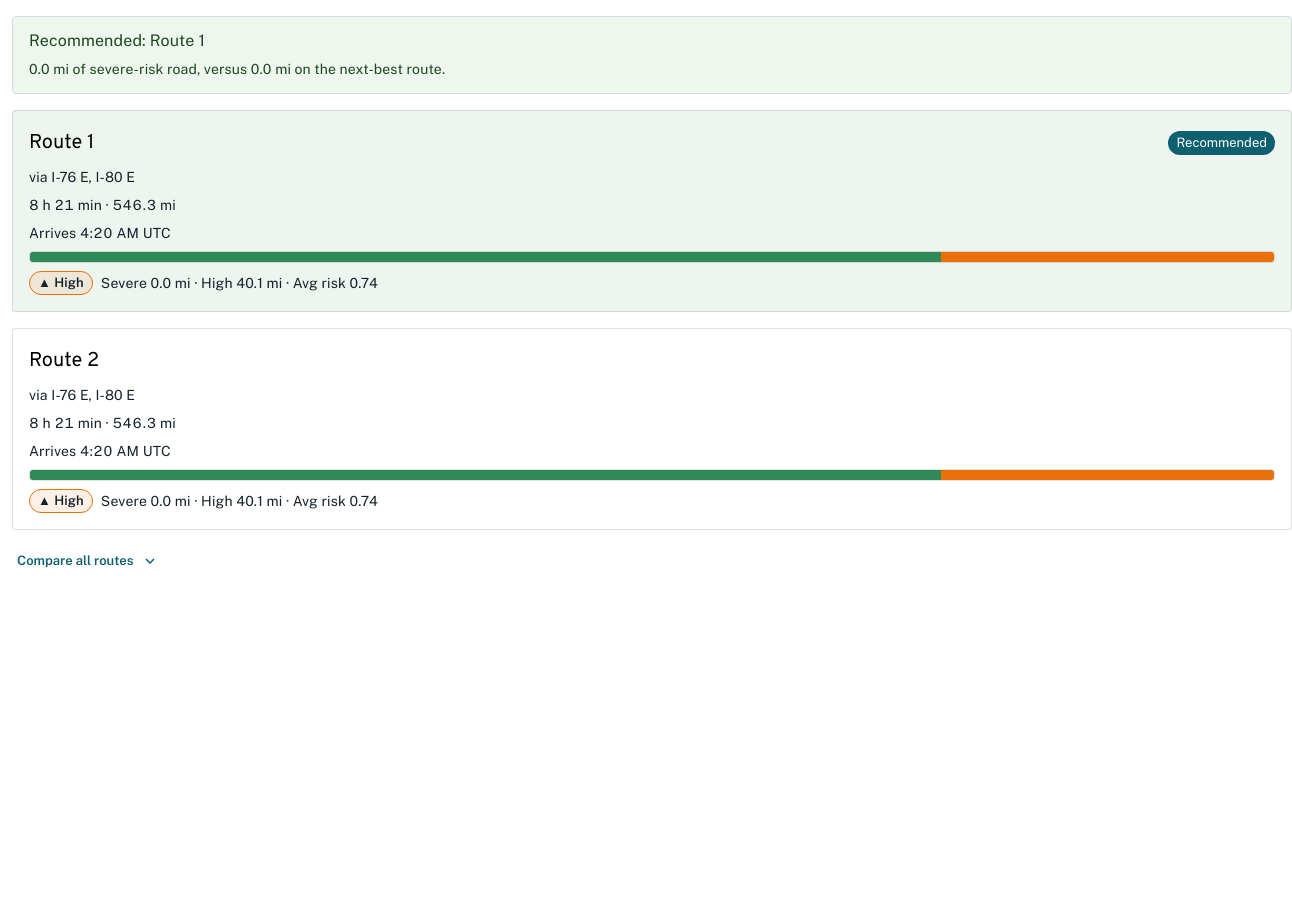
Test case: ResultsPanel › collapses the full comparison table by default and toggles it on request
Click the button "Compare all routes": {"x": 87, "y": 561} left=12, top=546, right=162, bottom=576
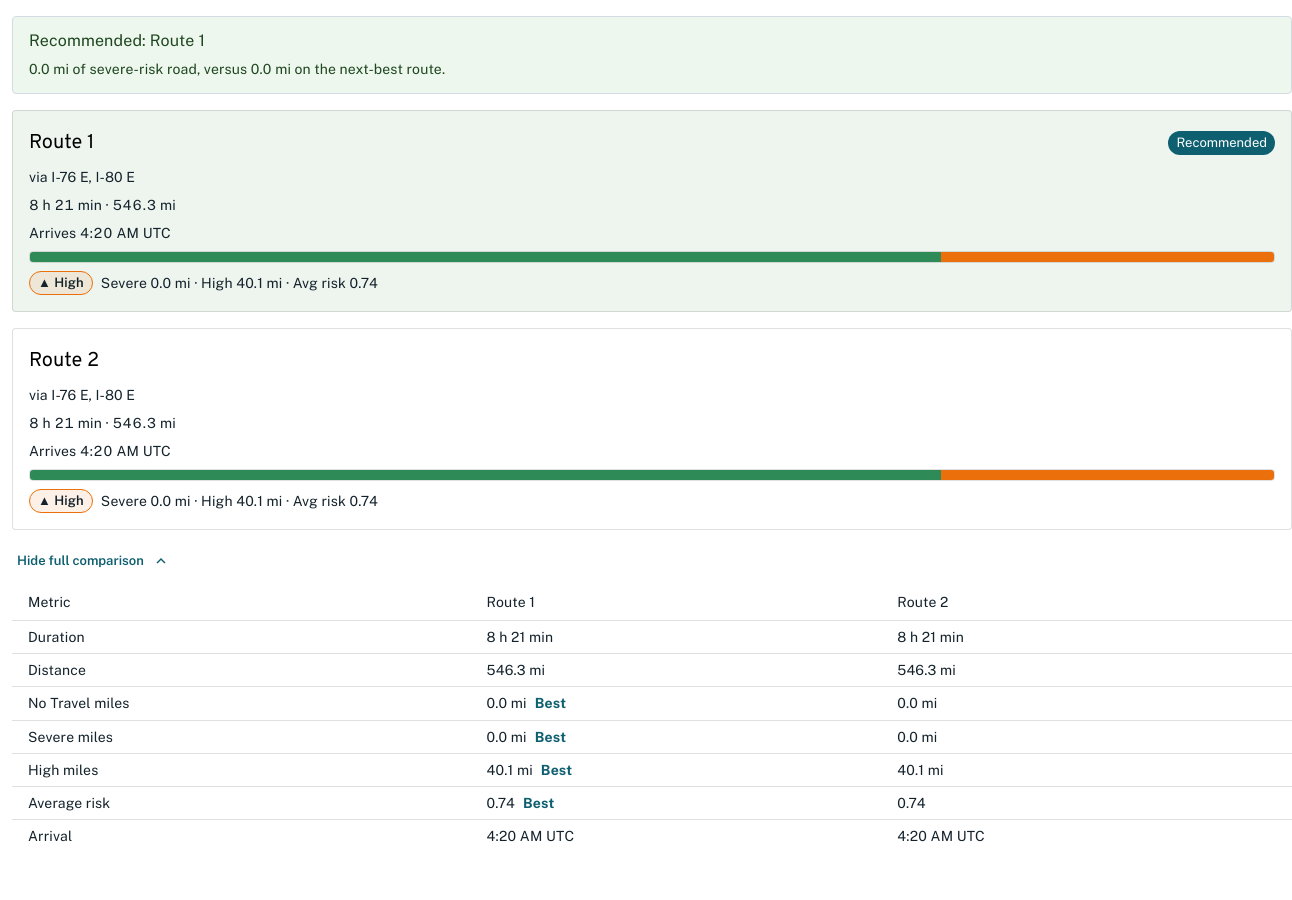
Check: the table named "Route comparison" is shown, box left=12, top=584, right=1291, bottom=852
Click the button "Hide full comparison": {"x": 92, "y": 561} left=12, top=546, right=173, bottom=576
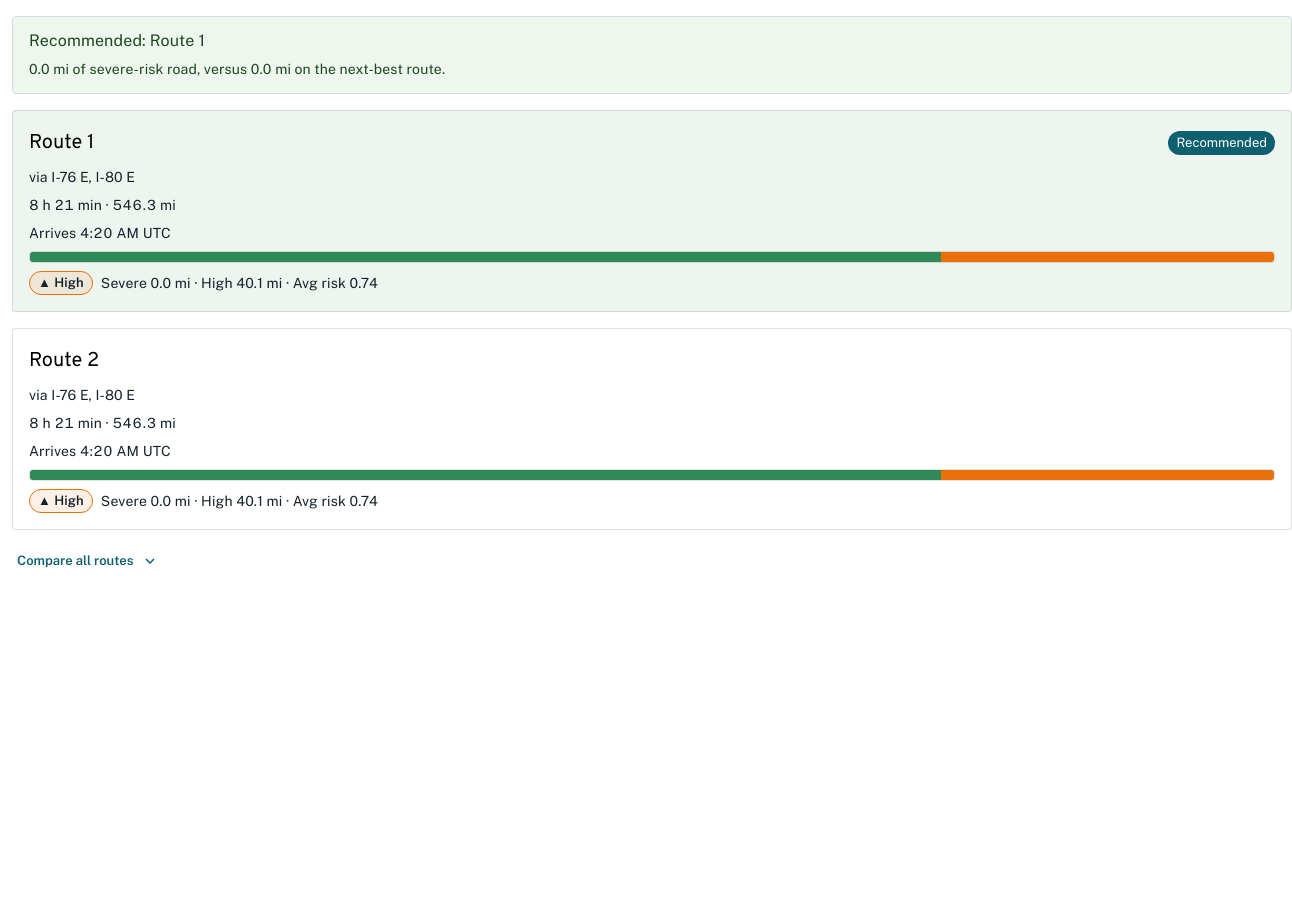
Check: the button named "hide full comparison" is collapsed, box left=12, top=546, right=162, bottom=576
